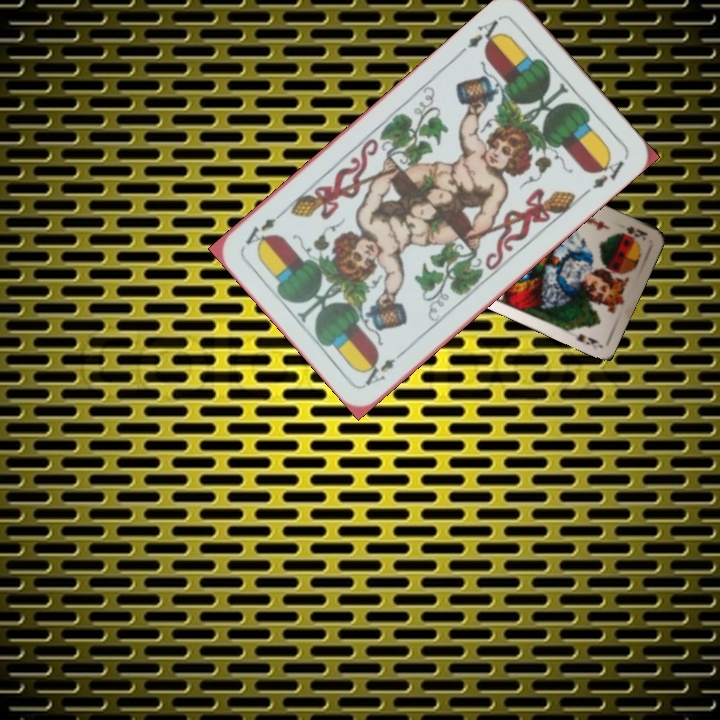EA: (455, 13, 505, 57), (359, 345, 409, 389)
SK: (622, 222, 650, 243)
